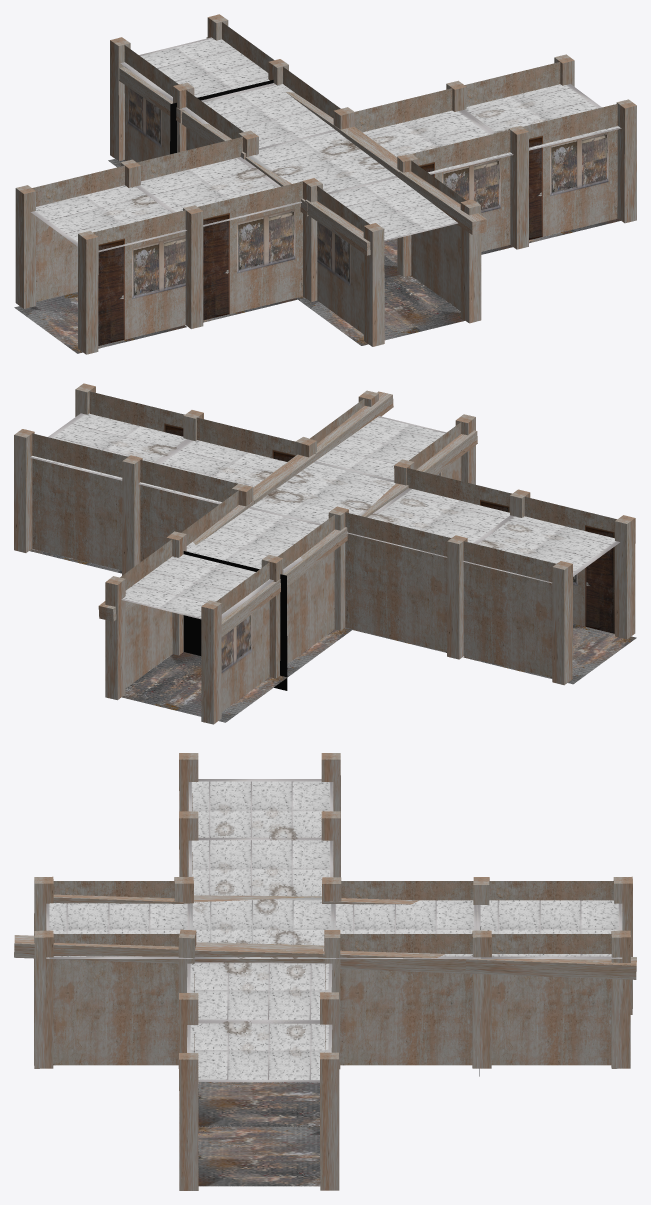
File: tunnel_3.glb
3 views of the same model, one above another, from view 1: azimuth 30°, elevation 25°; view 2: azimuth 150°, elevation 25°; view 3: azimuth 270°, elevation 25° (orthographic). The views are drawn at different scales.
Visible parts, largest first — view 1: center_left_front_wall, center_right_front_wall.001, center_left_front_wall.001, center_right_front_wall, cieling_center, cieling_front.001, cieling_back, cieling_center_left, center_left_back_wall.001, front_left_wall, cieling_center_left.001, cieling_front (+29 smaller); view 2: center_left_back_wall, center_right_back_wall.001, center_left_back_wall.001, cieling_front.001, cieling_center, center_right_back_wall, center_left_front_wall.001, back_left_wall, front_left_wall.001, cieling_center_left, cieling_center_left.001, cieling_back (+32 smaller); view 3: back_right_wall, front_right_wall, front_right_wall.001, cieling_center_left.001, cieling_center_right.001, cieling_center_left, cieling_center_right, floor_center_right.001, cieling_center, floor_center_right, cieling_front.001, cieling_back (+24 smaller).
Boxes of the visible parts, x1,y1,x2,y2 form: center_left_front_wall: (198, 181, 302, 320); center_right_front_wall.001: (509, 104, 617, 244); center_left_front_wall.001: (93, 206, 199, 345); center_right_front_wall: (413, 130, 509, 251); cieling_center: (248, 130, 396, 193); cieling_front.001: (120, 37, 274, 101); cieling_back: (182, 84, 335, 148); cieling_center_left: (136, 157, 301, 226); center_left_back_wall.001: (32, 162, 138, 301); front_left_wall: (317, 186, 369, 334); cieling_center_left.001: (31, 185, 186, 252); cieling_front: (328, 176, 457, 241); center_left_back_wall: (345, 512, 451, 652); center_right_back_wall.001: (32, 433, 142, 570); center_left_back_wall.001: (463, 541, 555, 677); cieling_front.001: (121, 554, 273, 619); cieling_center: (250, 462, 395, 524); center_right_back_wall: (142, 460, 237, 560); center_left_front_wall.001: (524, 497, 616, 633); back_left_wall: (277, 514, 334, 663); front_left_wall.001: (216, 562, 269, 711); cieling_center_left: (347, 488, 509, 557); cieling_center_left.001: (463, 515, 619, 583); cieling_back: (186, 507, 320, 573); back_right_wall: (340, 934, 472, 1065); front_right_wall: (53, 934, 179, 1065); front_right_wall.001: (491, 934, 611, 1065); cieling_center_left.001: (188, 779, 333, 840); cieling_center_right.001: (187, 1021, 332, 1082); cieling_center_left: (188, 837, 333, 896); cieling_center_right: (187, 962, 332, 1022); floor_center_right.001: (198, 1126, 320, 1186); cieling_center: (189, 897, 334, 958); floor_center_right: (198, 1082, 319, 1126); cieling_front.001: (477, 900, 622, 958); cieling_back: (332, 900, 477, 958).
Bounding box in the file's own units: 10.11 × 2.25 × 8.6.
20 materials, 19 textured.
